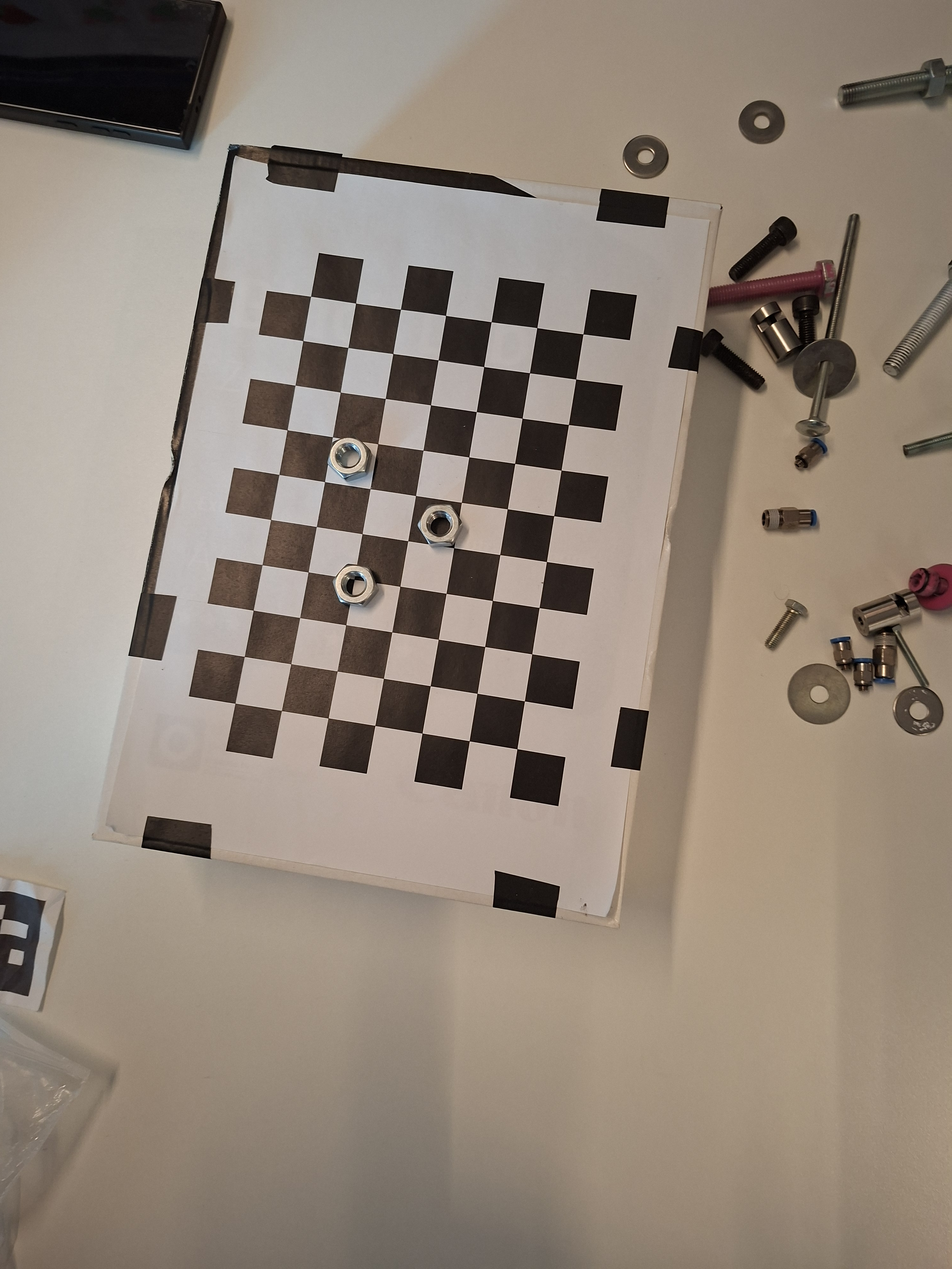hex_nut: (316, 429, 380, 489), (326, 561, 387, 613), (413, 502, 469, 551)
